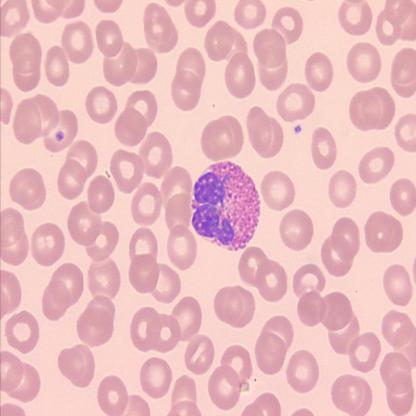Eosinophil: (190, 159, 262, 253)
